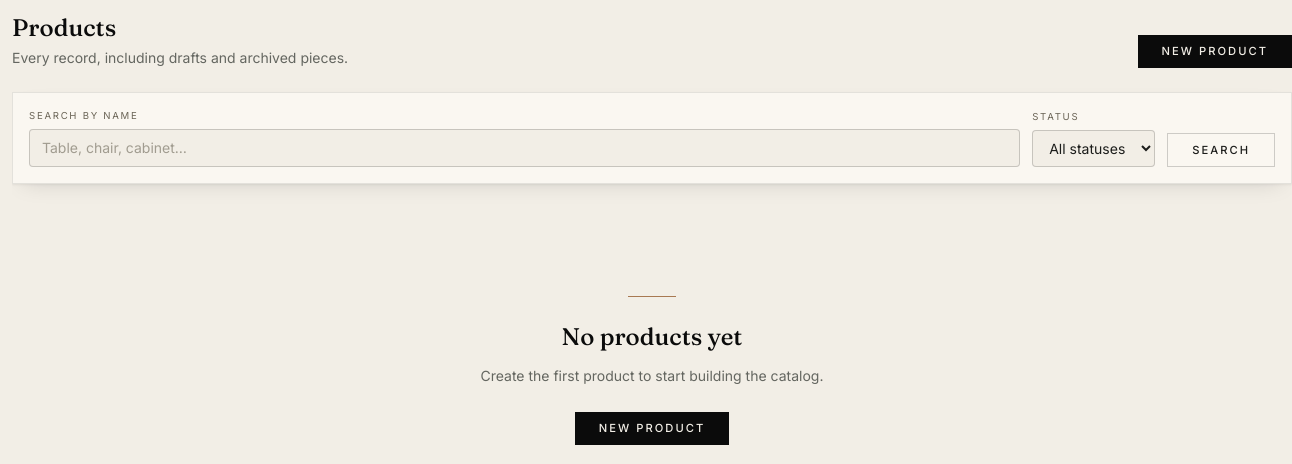
Test: AdminProductsPage › offers a way to clear filters when a filtered search finds nothing
Expected: the element with test id "empty-state" is shown, [480,322,824,445]
Step 1. Select "Draft" in the dropdown named "Filter by status" → (1094, 149), box [1032,130,1155,167]
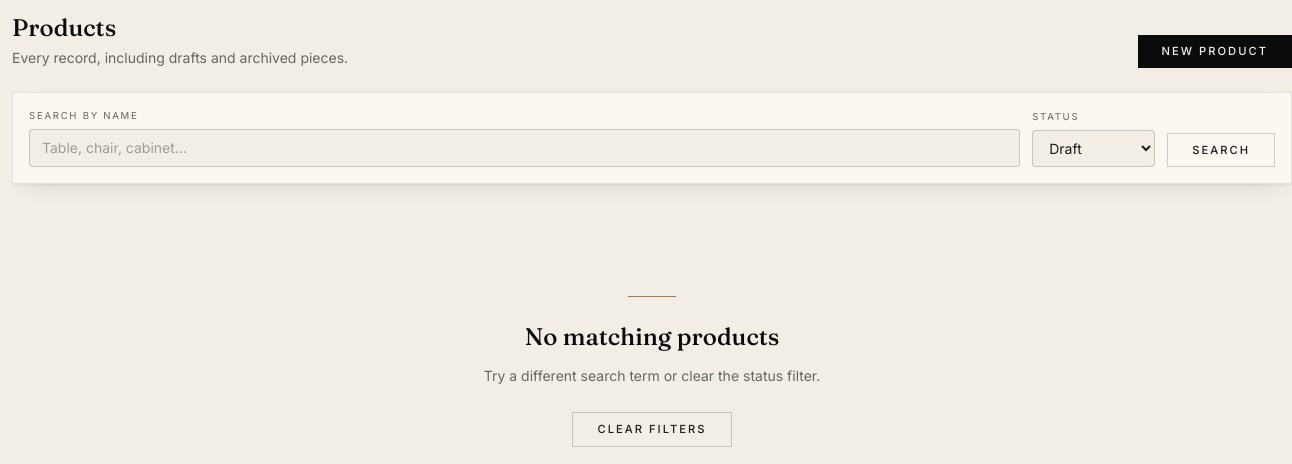
Expected: the heading "No matching products" is shown, [525,321,779,353]
Expected: the button "Clear filters" is shown, [572,412,732,447]
